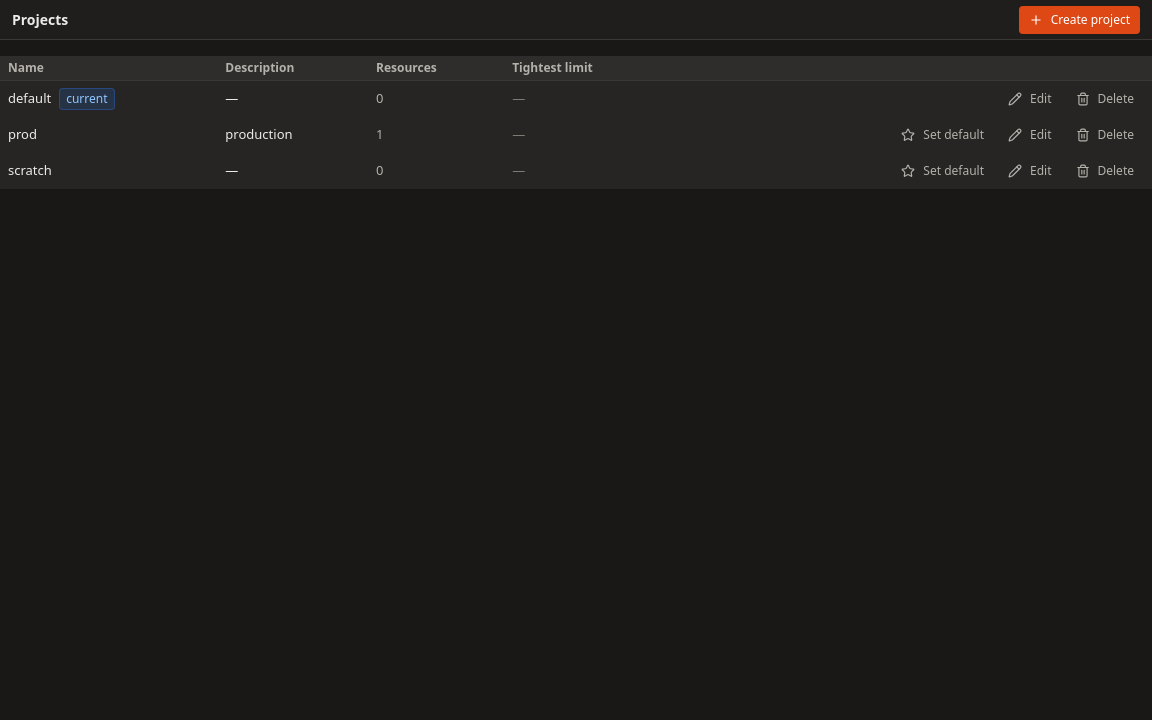
Scenario: ProjectsPage › refuses to delete a project that still has resources and lists them
Expected: the text "prod" is shown, [8,125,37,145]
Click the button with test id "project-delete-prod": (1105, 135) [1066,121,1144,149]
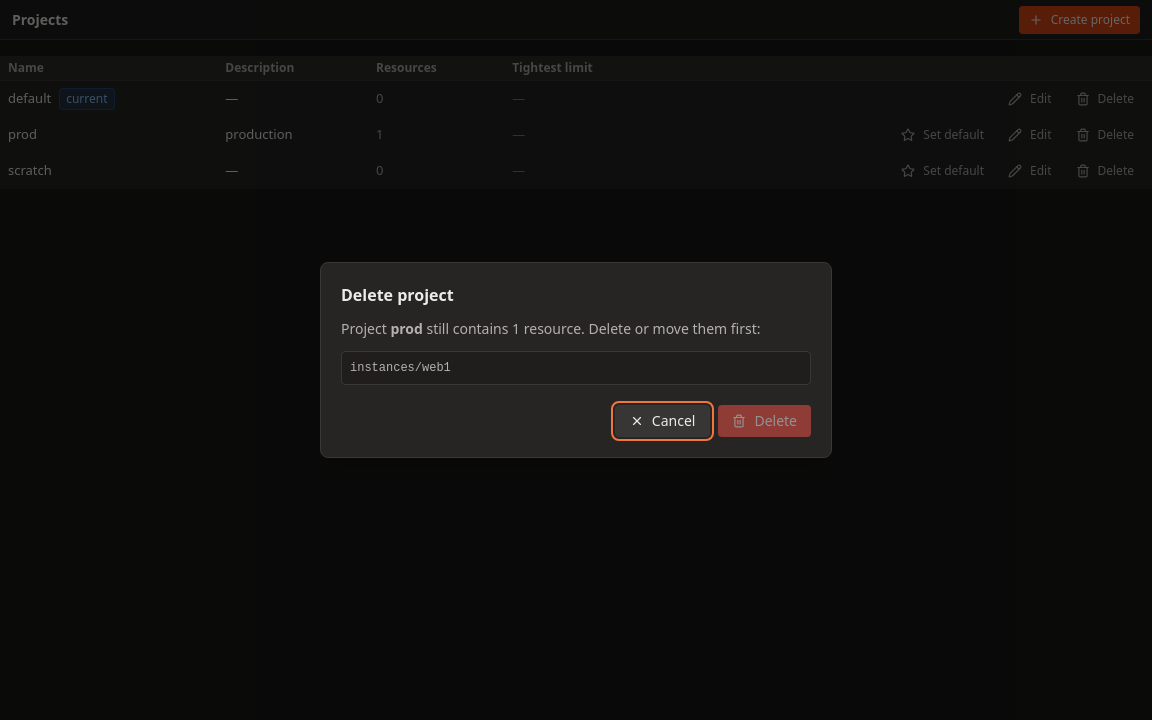
Result: the list with test id "project-delete-resources" reads "instances/web1" at [350,361,451,375]
Result: the button with test id "project-delete-confirm" is disabled at [718,405,811,437]
